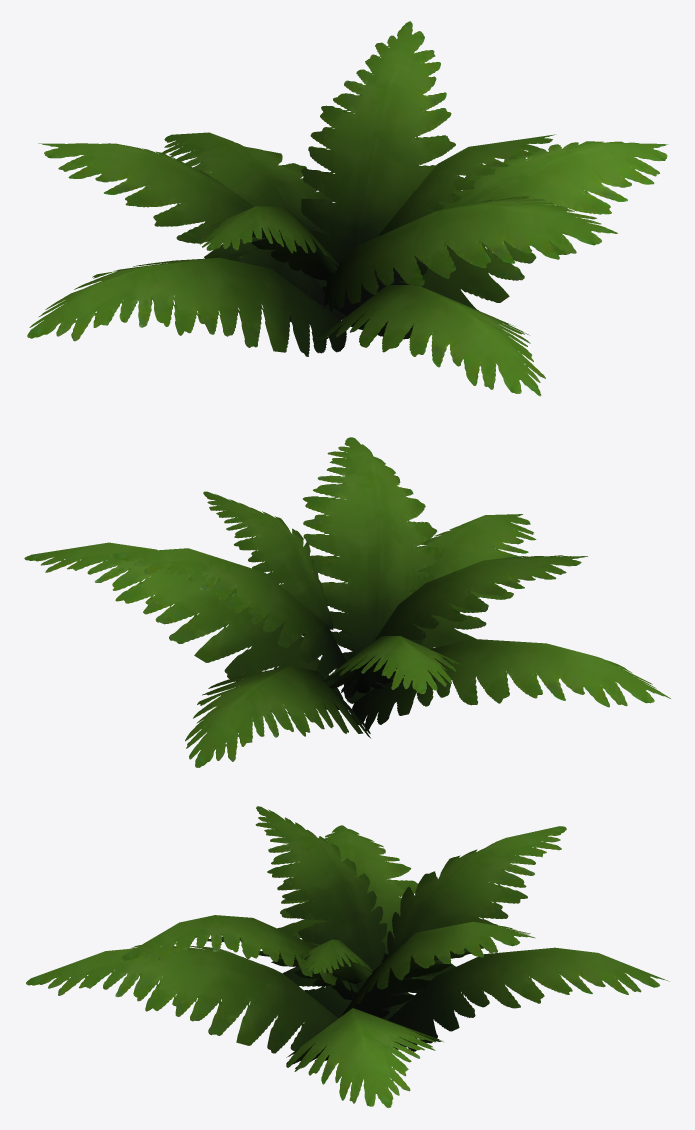
Rendered from Fern_1.gltf.
3 views of the same model, one above another, from view 1: azimuth 30°, elevation 25°; view 2: azimuth 150°, elevation 25°; view 3: azimuth 270°, elevation 25° (orthographic). The views are drawn at different scales.
Parts seen in each view (by area): view 1: Fern_1; view 2: Fern_1; view 3: Fern_1.
Boxes of the visible parts, x1,y1,x2,y2 form: Fern_1: (27, 21, 668, 396); Fern_1: (24, 437, 670, 767); Fern_1: (26, 806, 669, 1108).
Size of the model in its own units: 2.83 by 0.8404 by 2.65.
Materials: 1 (1 with a texture image).
